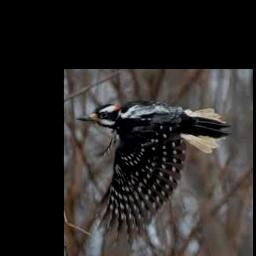Woodpecker: (77, 99, 231, 243)
